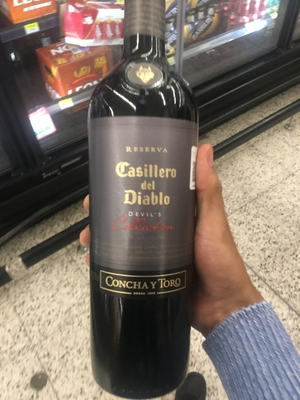casillero del diablo devils collection rojo: (75, 12, 215, 393)
